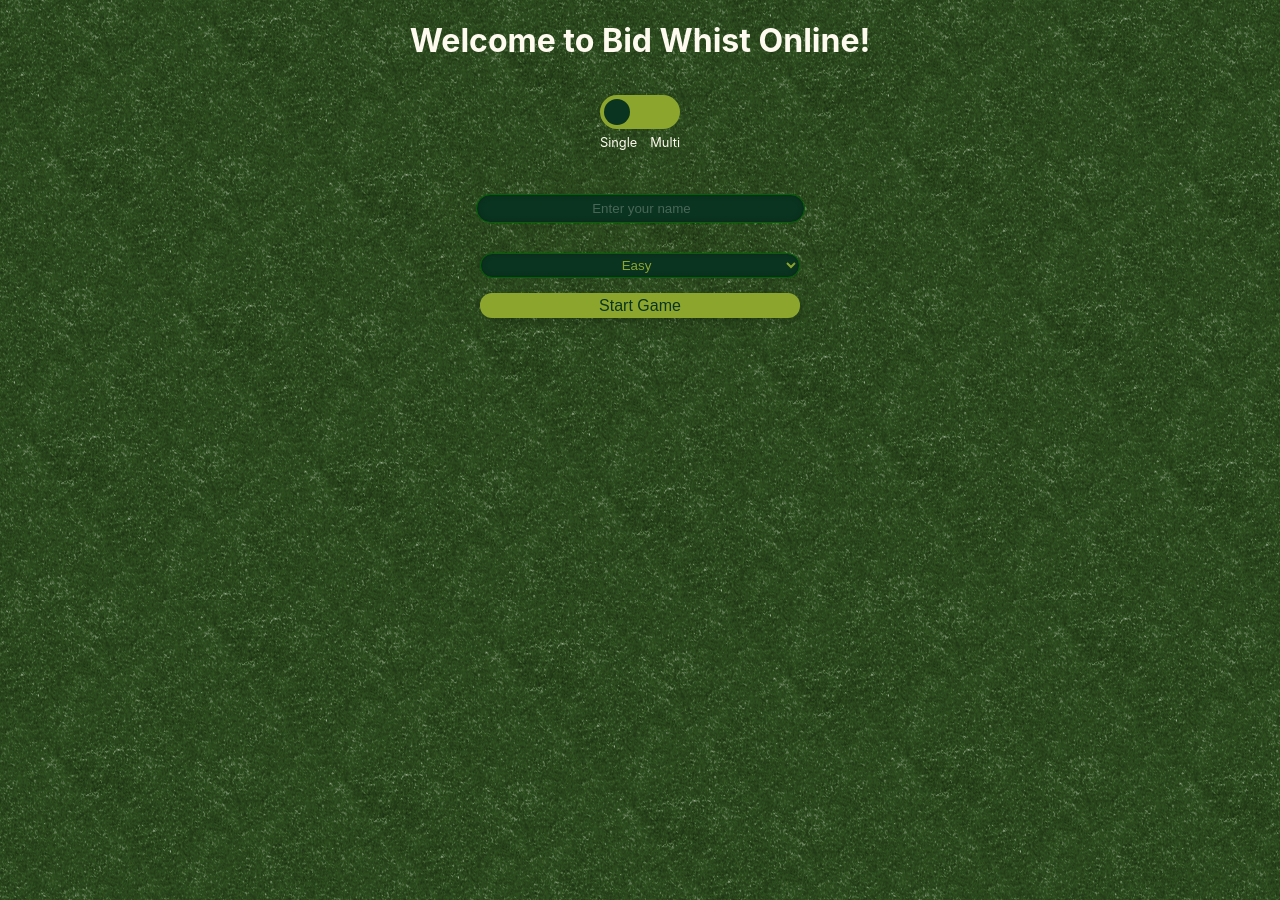
it: ModeSelector › toggles to multiplayer and shows multiplayer inputs
Click the checkbox labelled "Single Multi": {"x": 640, "y": 112} left=600, top=95, right=680, bottom=129
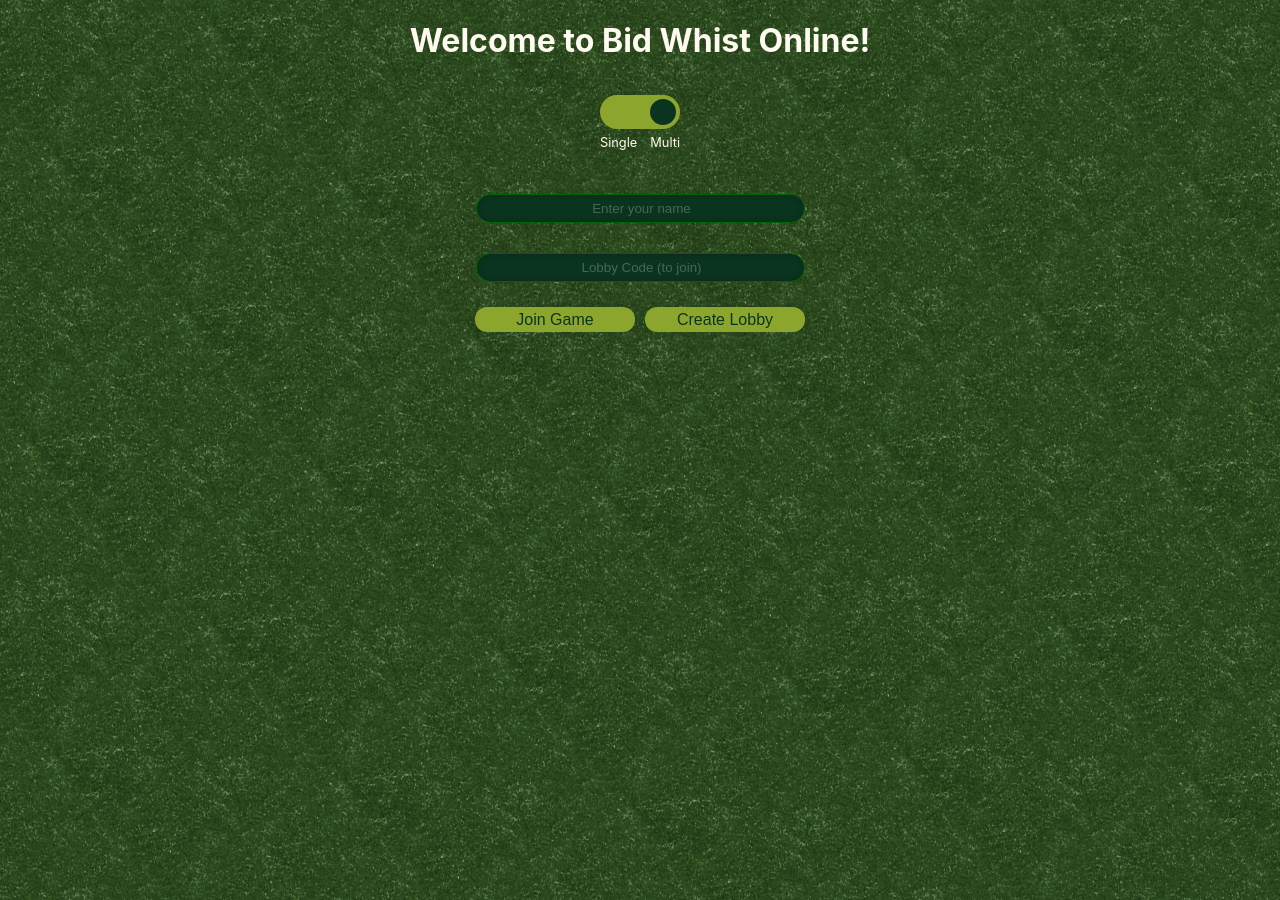
Now the element with class "multi" showing "Join Game Create Lobby" is shown, box left=475, top=194, right=805, bottom=332
Now the field with placeholder "Lobby Code (to join)" is shown, box left=476, top=253, right=804, bottom=282
Now the button "Join Game" is shown, box left=475, top=307, right=635, bottom=332
